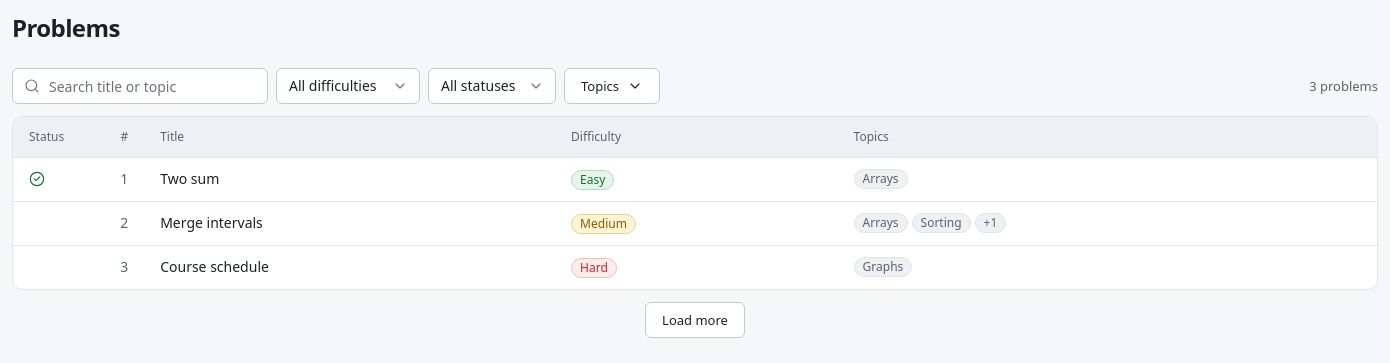
Scenario: explains when nothing matches and warns that filters only cover loaded problems
This screenshot has width=1390, height=363.
Type "zzz" into the search field named "Search problems". click: (140, 86)
box: left=12, top=68, right=268, bottom=104
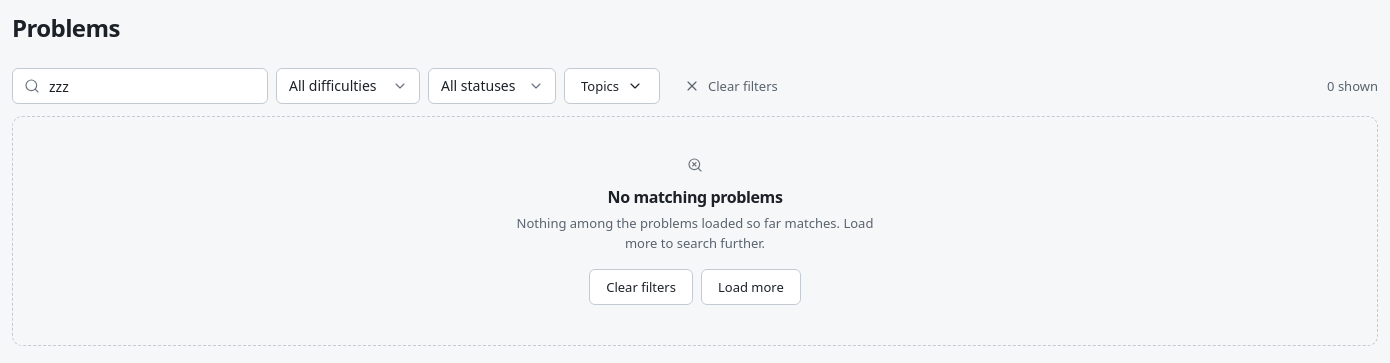
Check: the heading "No matching problems" is shown, box left=608, top=185, right=782, bottom=209
Check: the text "Load more to search further" is shown, box left=517, top=214, right=873, bottom=252
